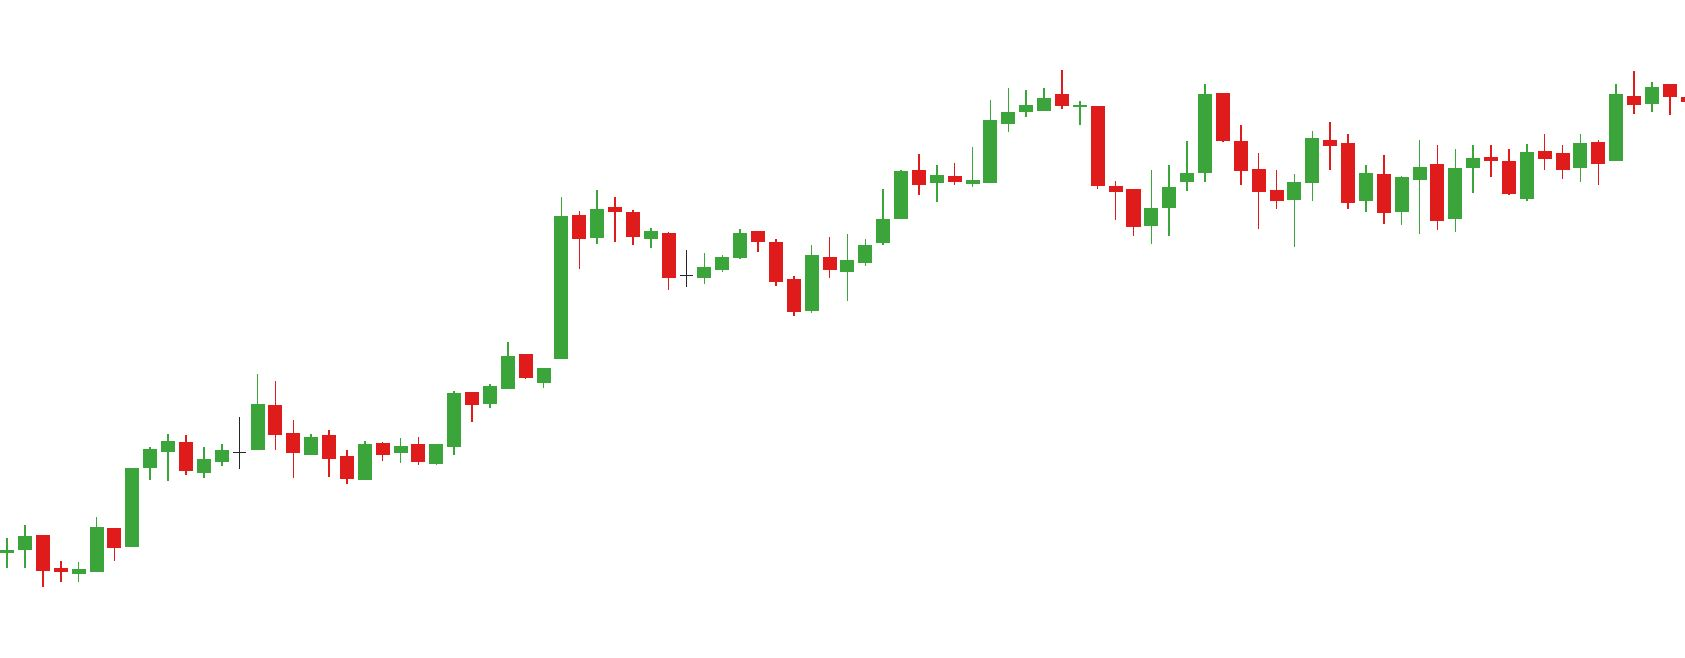buy: (930, 123, 1178, 246), (664, 237, 821, 323)
